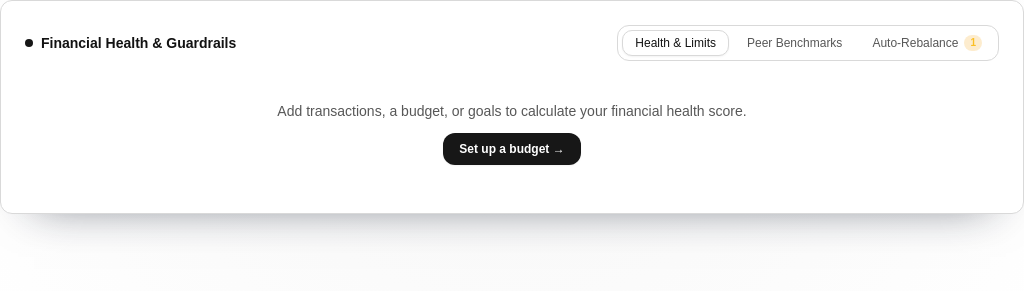
Test: BudgetHealthCard Component › keeps peer and rebalance controls useful when no financial records exist
This screenshot has width=1024, height=291.
expect the element with test id "budget-health-empty" shows "Add transactions": met, box [277,103,747,119]
Click the button with test id "btn-tab-peer-benchmarks".
click(795, 43)  # box [735,31,854,55]
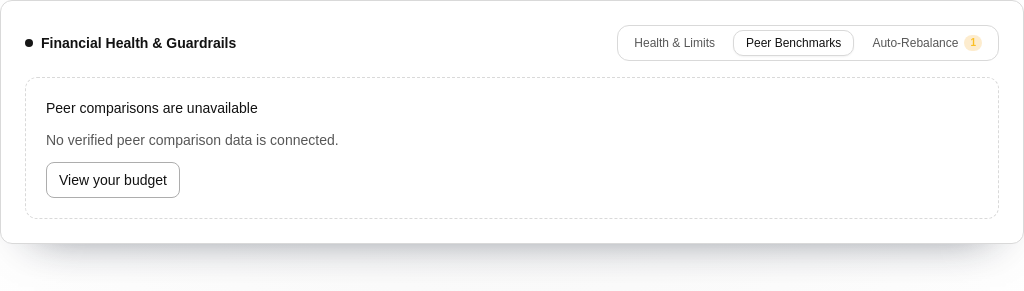
expect the message with test id "peer-benchmarks-unavailable" is shown: met, box [25,77,999,219]
Click the button with test id "btn-tab-auto-rebalance".
click(927, 43)  # box [860,31,994,55]
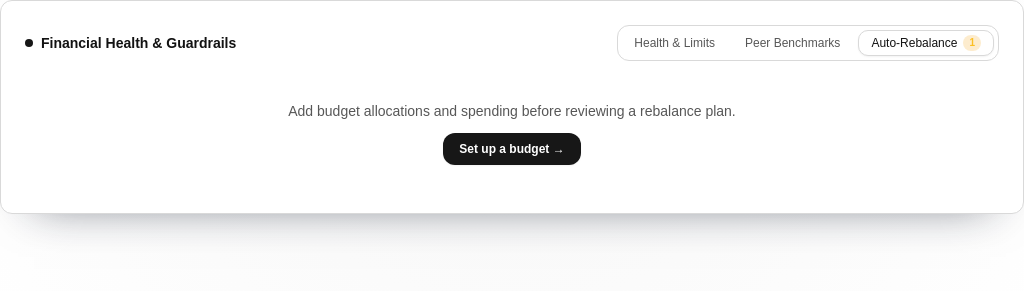
expect the element with test id "budget-health-empty" shows "Add budget allocations and spending": met, box [288,103,736,119]
expect the element with test id "card-peer-benchmarking" is gone: met
